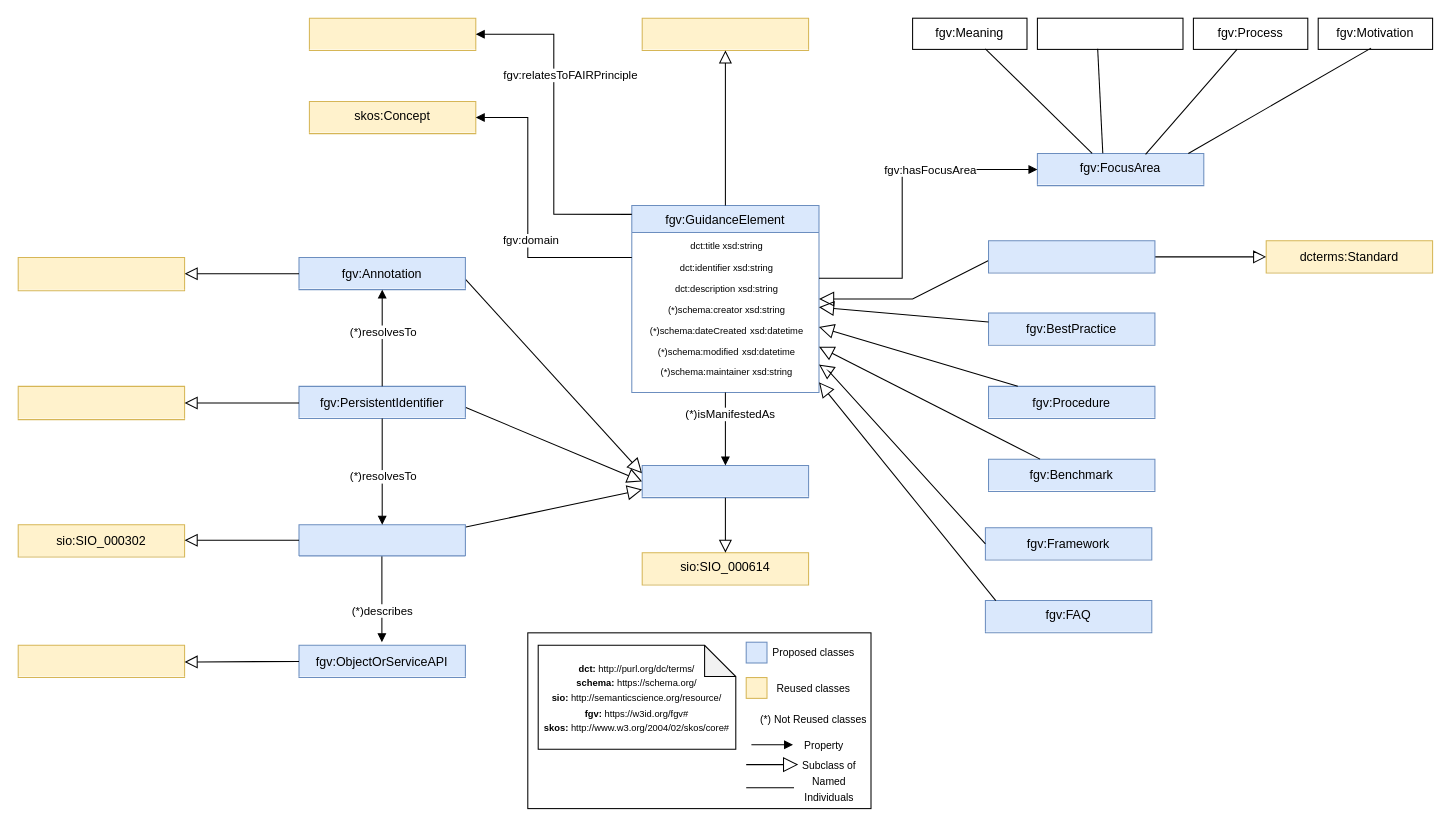
This 1451x827 diagram has some shape labels left out. Here are the shapes that lost their labels. From the top down, the centre of each, then its label:
(x=392, y=33): FAIR-Principle
(x=725, y=33): schema:CreativeWork
(x=1109, y=33): fgv:AdditionalInformation
(x=101, y=273): sio:SIO_001166
(x=1071, y=256): fgv:Standard
(x=101, y=402): sio:SIO_000675
(x=725, y=481): fgv:ExternalResource
(x=381, y=540): fgv:WebPage
(x=101, y=661): sio:SIO_001190
